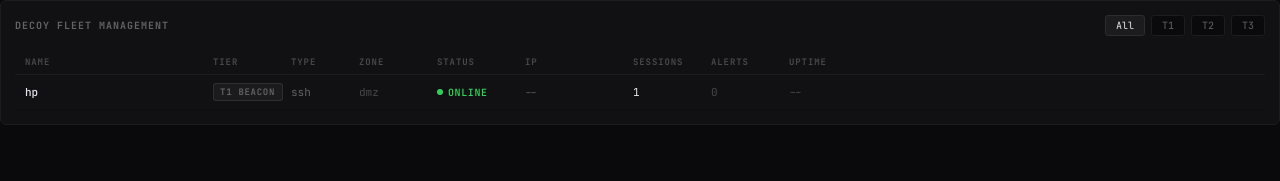
Scenario: DecoyFleet › shows empty state when filtered tier has no decoys
Click the button "T3".
click(1248, 26)  # box x1=1231 y1=15 x2=1265 y2=36
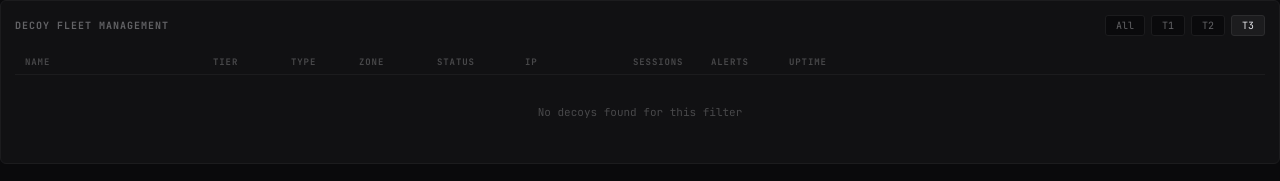
Expected: the text "No decoys found for this filter" is shown, x1=538 y1=105 x2=742 y2=119
